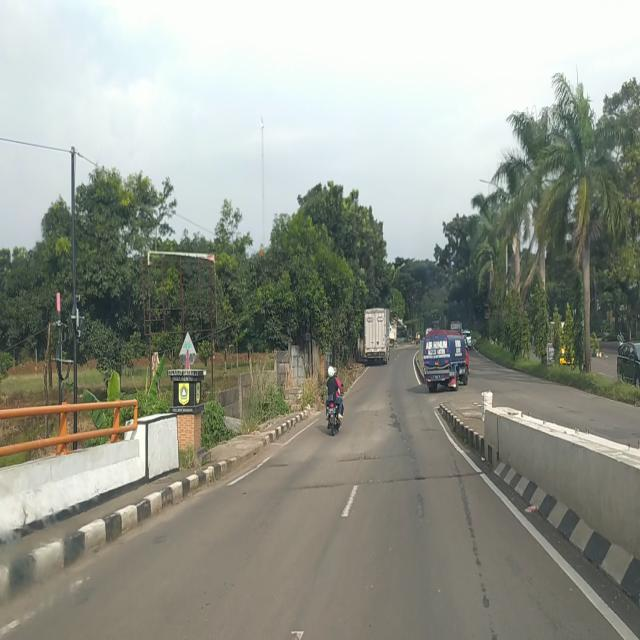Sewer Cover: (269, 475, 485, 492), (337, 454, 405, 463), (258, 463, 289, 470)
